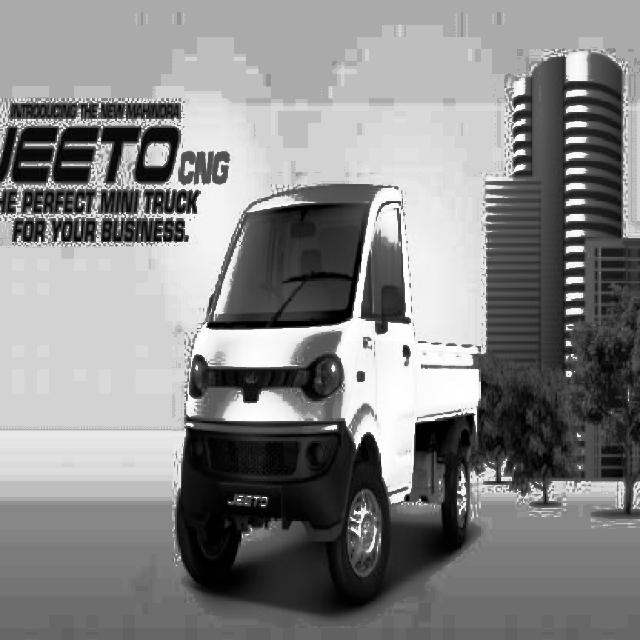LCV: (175, 186, 473, 592)
